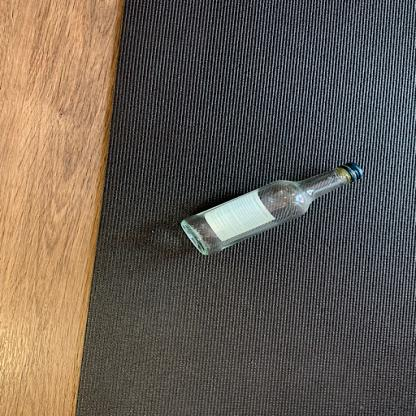trash: (177, 162, 369, 255)
